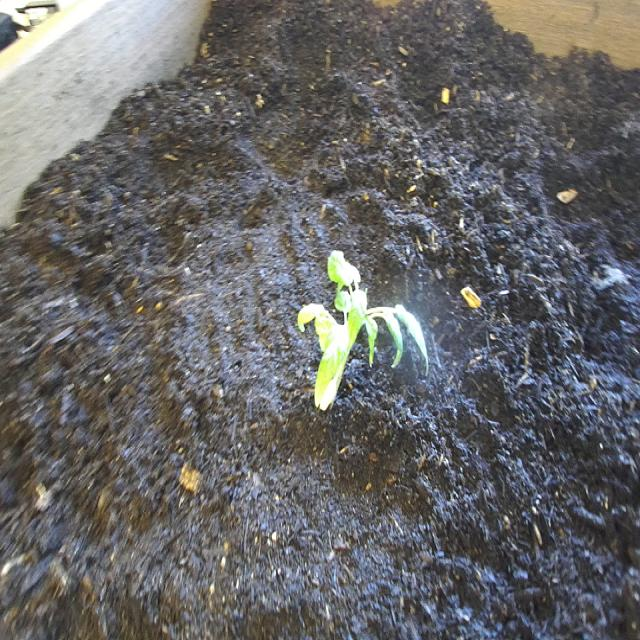Healthy: (287, 232, 438, 426)
